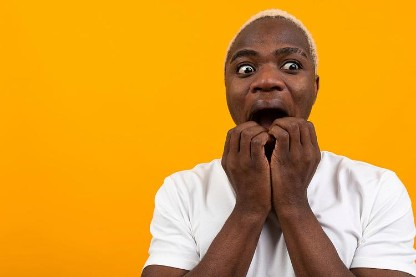张嘴: (244, 92, 298, 144)
